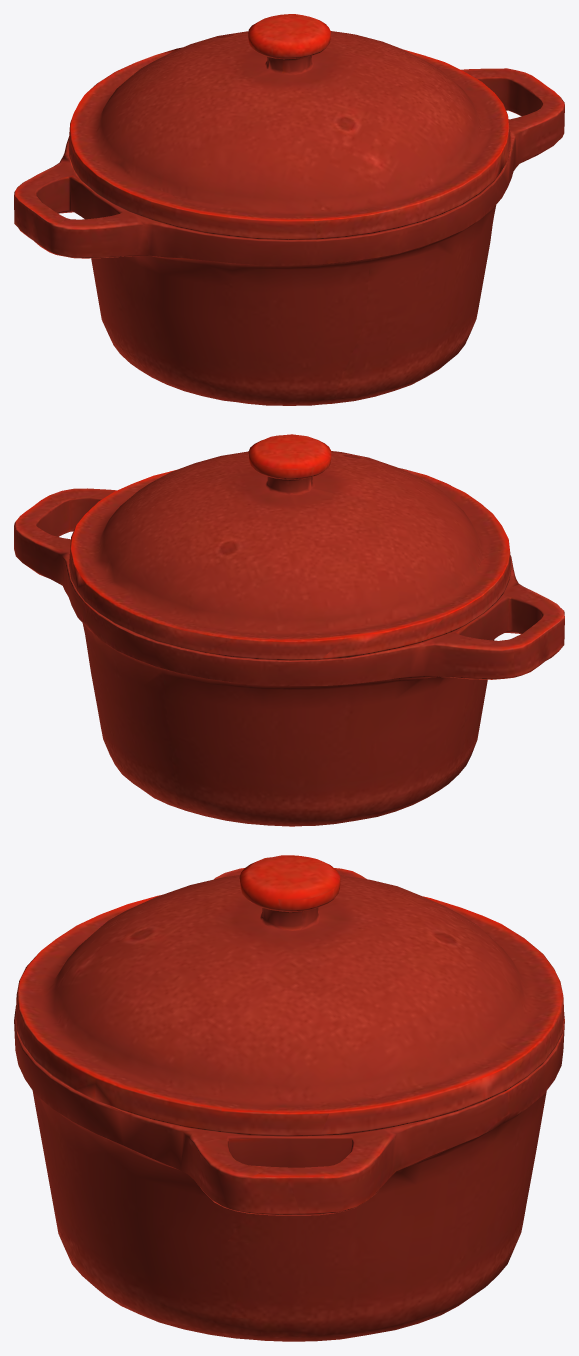
The model's file is pot.glb.
The picture shows the model from 3 angles, top to bottom: view 1: azimuth 30°, elevation 25°; view 2: azimuth 150°, elevation 25°; view 3: azimuth 270°, elevation 25°; orthographic projection. The views are drawn at different scales.
Size of the model in its own units: 1 by 0.581 by 0.7508.
1 material, 1 textured.
